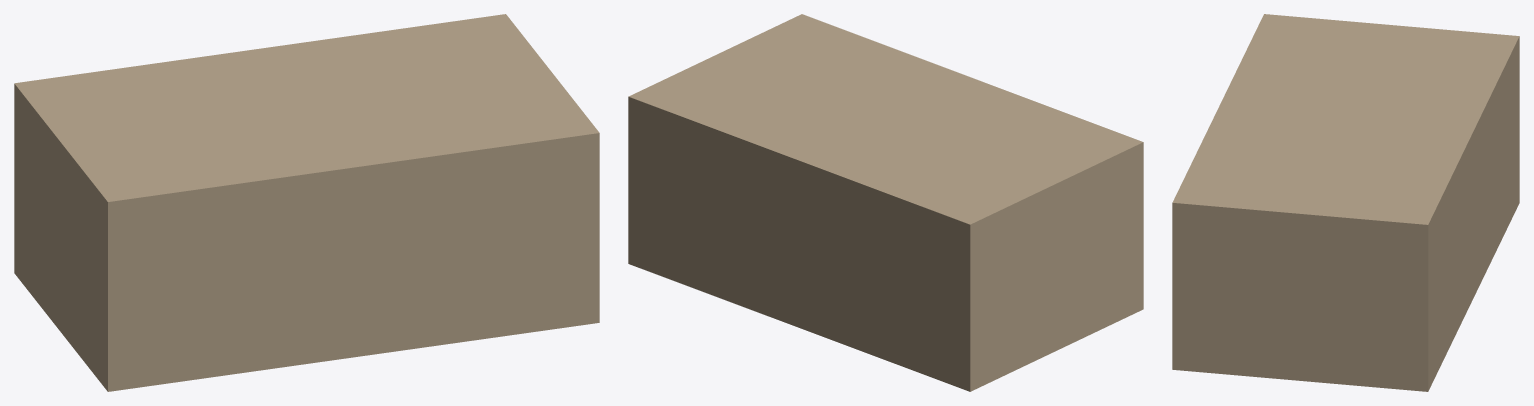
Rendered from bld_99615926.dae.
The picture shows the model from 3 angles, left to right: view 1: azimuth 30°, elevation 25°; view 2: azimuth 150°, elevation 25°; view 3: azimuth 270°, elevation 25°; orthographic projection. The views are drawn at different scales.
Visible parts, largest first — view 1: bld_99615926; view 2: bld_99615926; view 3: bld_99615926.
Part boxes in pixels (box(x1,y1,x2,y2)): bld_99615926: box(14, 14, 599, 391); bld_99615926: box(628, 14, 1143, 391); bld_99615926: box(1172, 14, 1519, 391).
Size of the model in its own units: 21.67 by 15.07 by 8.
